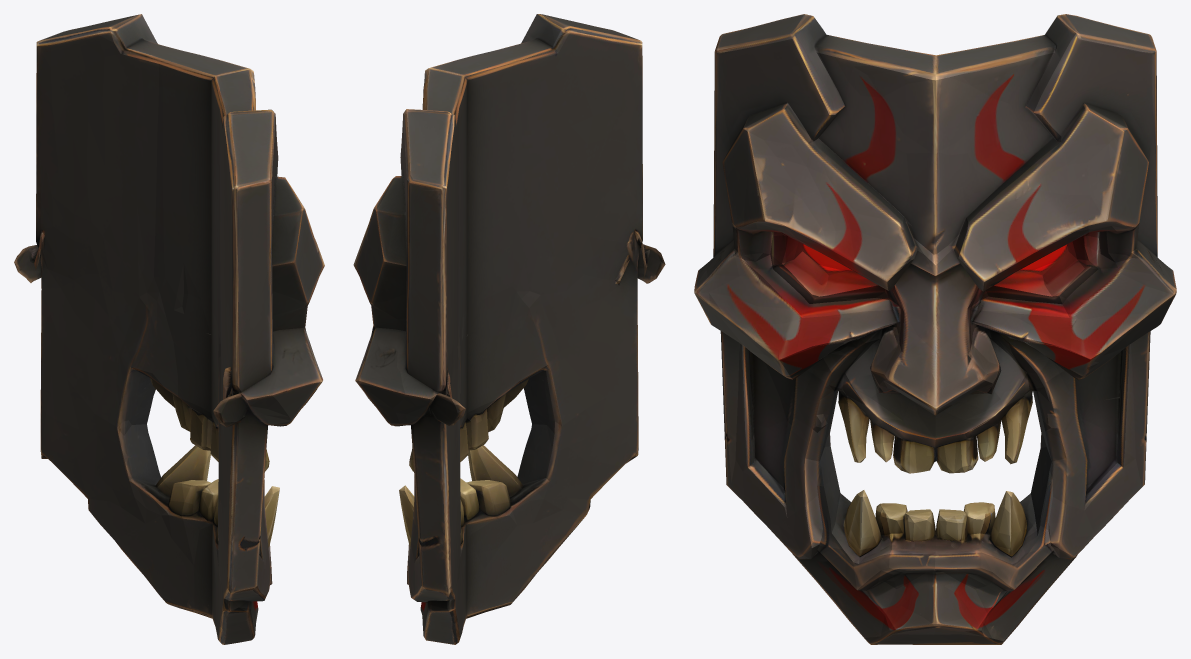
Rendered from Mask_Fighter.glb.
3 renders of one model, left to right at view 1: azimuth 30°, elevation 25°; view 2: azimuth 150°, elevation 25°; view 3: azimuth 270°, elevation 25°, orthographic. The views are drawn at different scales.
Visible parts, largest first — view 1: tripo_node_ac891165-afac-420d-88b5-d384f814a388; view 2: tripo_node_ac891165-afac-420d-88b5-d384f814a388; view 3: tripo_node_ac891165-afac-420d-88b5-d384f814a388.
Part boxes in pixels (x1=…): tripo_node_ac891165-afac-420d-88b5-d384f814a388: x1=14, y1=14, x2=324, y2=644; tripo_node_ac891165-afac-420d-88b5-d384f814a388: x1=353, y1=14, x2=665, y2=644; tripo_node_ac891165-afac-420d-88b5-d384f814a388: x1=694, y1=14, x2=1176, y2=644.
Size of the model in its own units: 0.3023 by 1 by 0.7245.
Materials: 1 (1 with a texture image).
